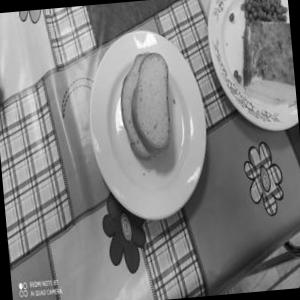bread: (108, 35, 189, 159)
casserole: (214, 0, 296, 109)
